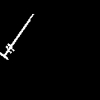treble_crochet: (0, 14, 33, 58)
